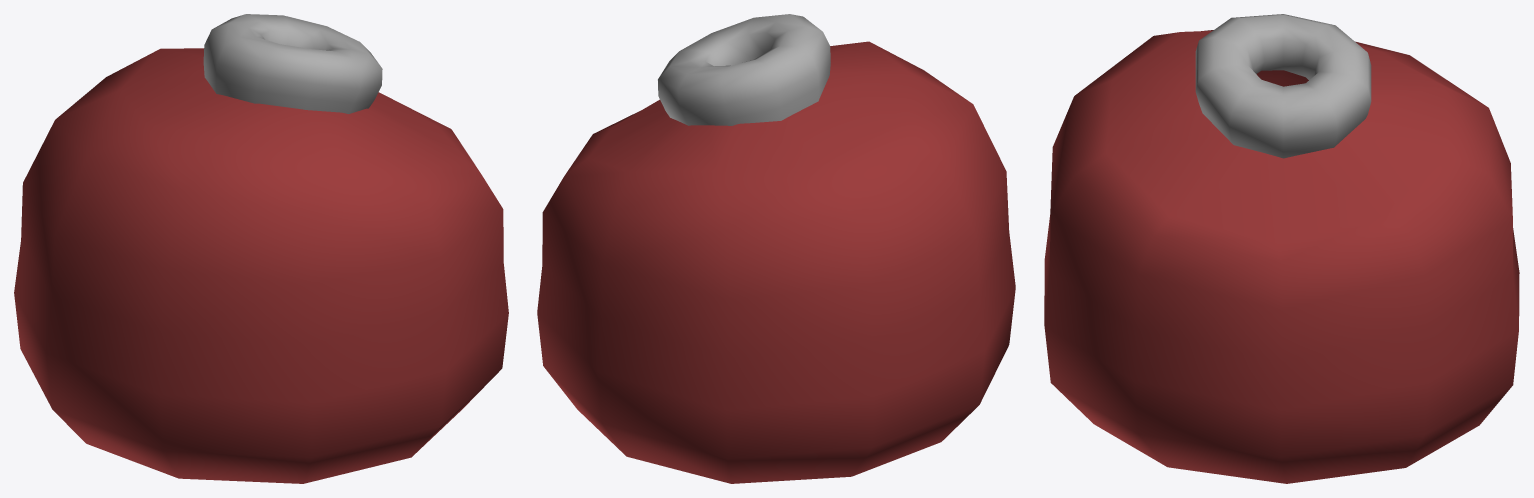
File: cherrybomb_body.fbx
3 renders of one model, left to right at view 1: azimuth 30°, elevation 25°; view 2: azimuth 150°, elevation 25°; view 3: azimuth 270°, elevation 25°, orthographic. The views are drawn at different scales.
Visible parts, largest first — view 1: pSphere1, pTorus1; view 2: pSphere1, pTorus1; view 3: pSphere1, pTorus1.
Part boxes in pixels (box(x1,y1,x2,y2)): pSphere1: box(14, 48, 508, 483); pTorus1: box(203, 14, 382, 113); pSphere1: box(537, 41, 1015, 483); pTorus1: box(658, 14, 830, 125); pSphere1: box(1044, 30, 1519, 483); pTorus1: box(1195, 14, 1371, 158).
Size of the model in its own units: 4.54 by 4.03 by 4.32.
